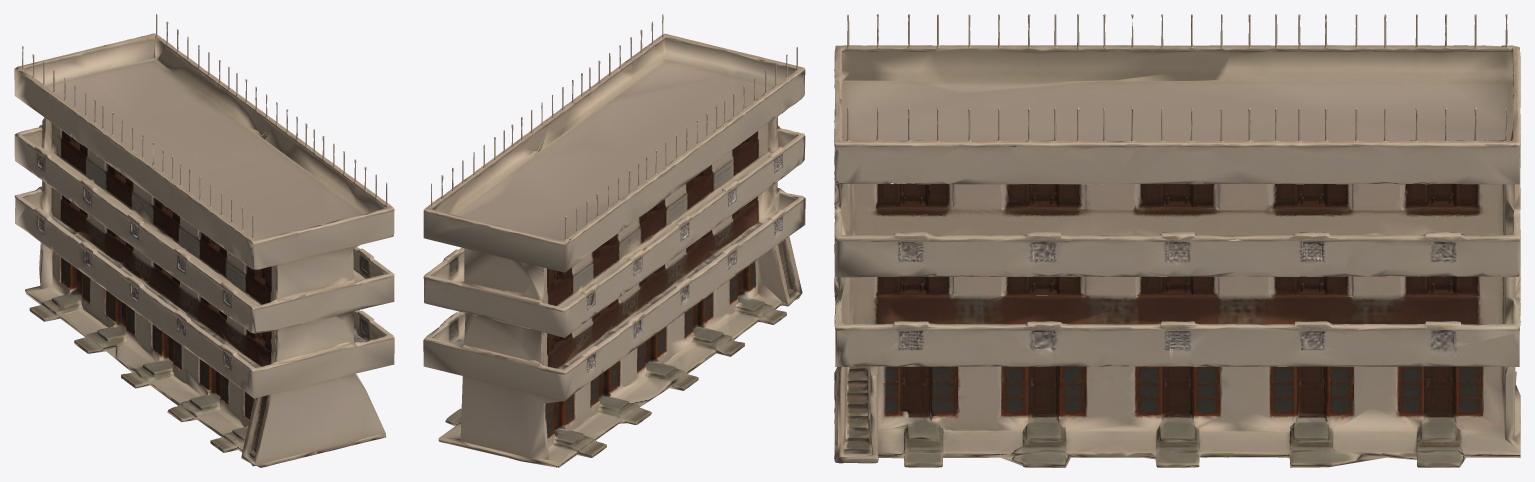
Rendered from HospitalStaffQuarters.glb.
3 views of the same model, side by side, from view 1: azimuth 30°, elevation 25°; view 2: azimuth 150°, elevation 25°; view 3: azimuth 270°, elevation 25° (orthographic). The views are drawn at different scales.
Visible parts, largest first — view 1: tripo_node_dad59570-7275-4958-866e-67fb51f2b5d7; view 2: tripo_node_dad59570-7275-4958-866e-67fb51f2b5d7; view 3: tripo_node_dad59570-7275-4958-866e-67fb51f2b5d7.
Part boxes in pixels (left/top/right/bottom): tripo_node_dad59570-7275-4958-866e-67fb51f2b5d7: left=14, top=14, right=394, bottom=467; tripo_node_dad59570-7275-4958-866e-67fb51f2b5d7: left=423, top=14, right=805, bottom=467; tripo_node_dad59570-7275-4958-866e-67fb51f2b5d7: left=834, top=14, right=1520, bottom=467.
Bounding box in the file's own units: 0.3476 × 0.5653 × 0.9793.
1 material, 1 textured.
